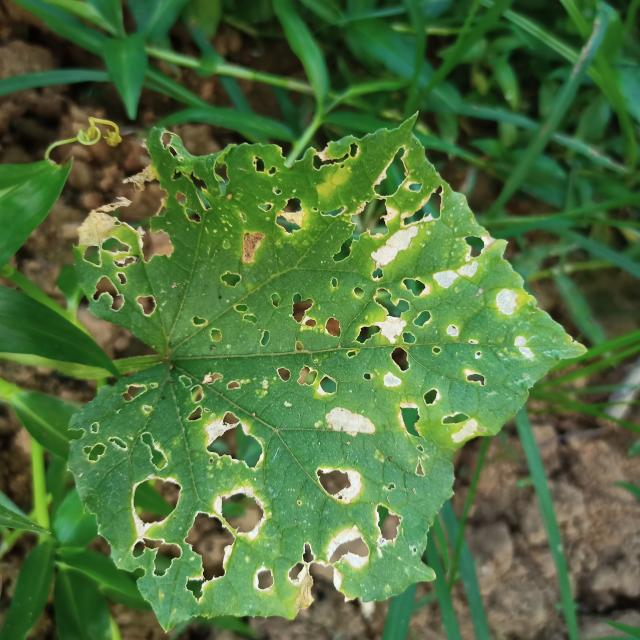disease_cucumber: (85, 172, 496, 596)
